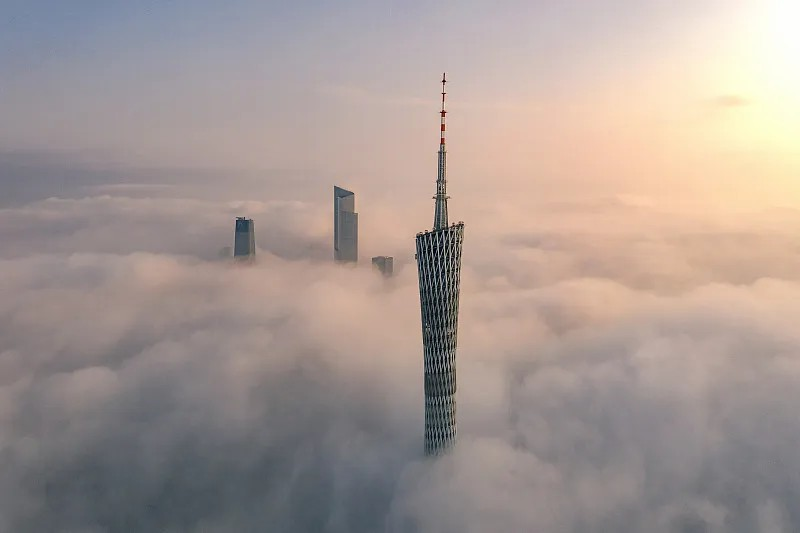Canton: (418, 72, 465, 458)
